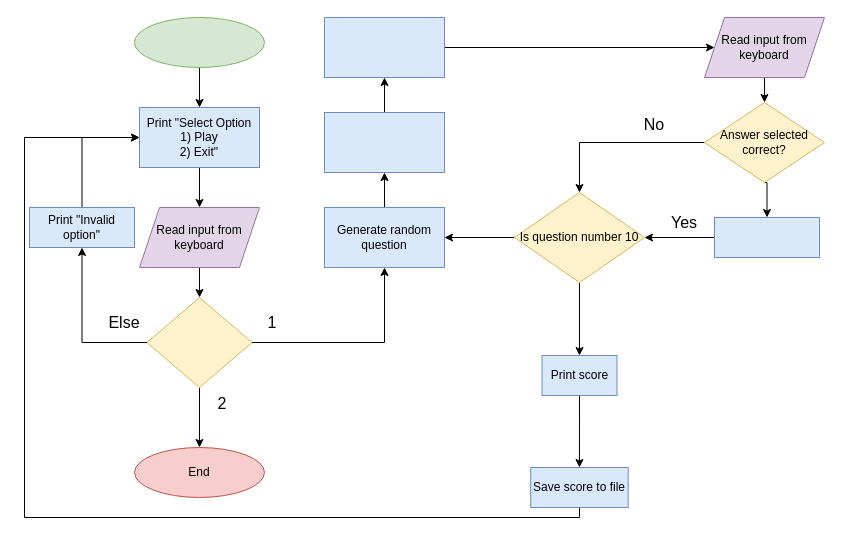
Some shapes in this 842 by 543 pixel diagram are drawn without their labels. Here are the shapes that lost their labels. From the top down, the centre of each, then its label:
[199,42]: Program start
[384,47]: Print question and options
[384,142]: Add 1 to question number
[767,237]: Add 1 to score
[199,342]: Read option selected
